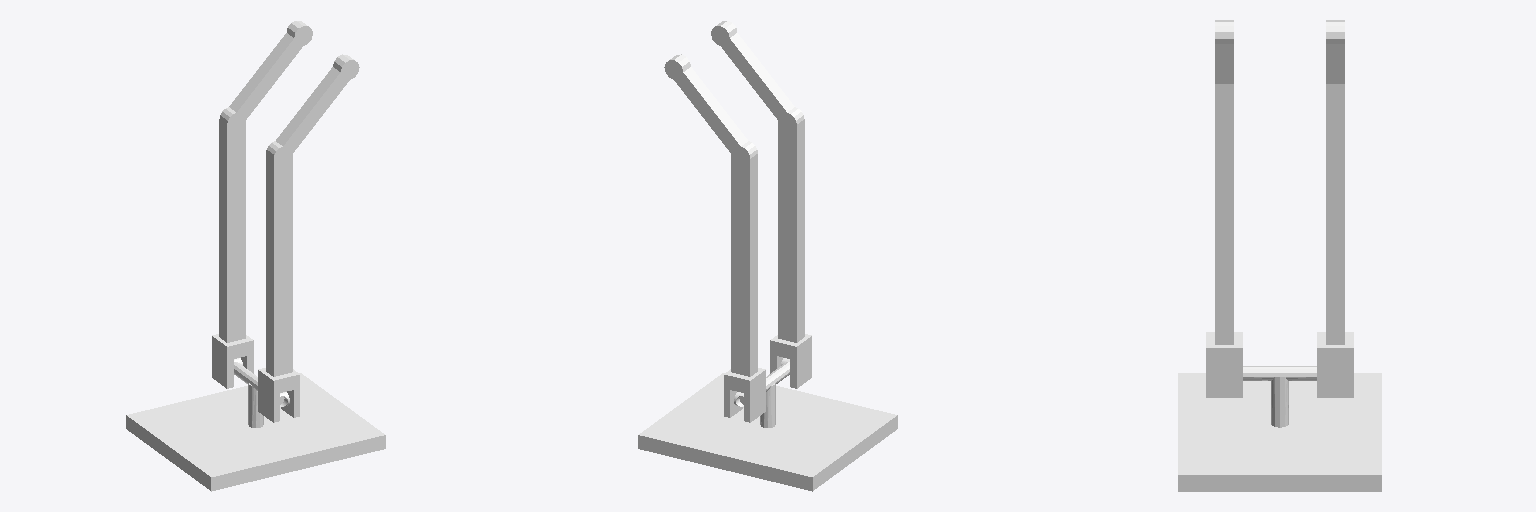
The robot description file, URDF, robot "leg-2.SLDASM":
<?xml version="1.0" encoding="utf-8"?>
<!-- This URDF was automatically created by SolidWorks to URDF Exporter! Originally created by [author] ([email redacted]) 
     Commit Version: 1.6.0-1-g15f4949  Build Version: 1.6.7594.29634
     For more information, please see http://wiki.ros.org/sw_urdf_exporter -->
<robot
  name="leg-2.SLDASM">
  <link
    name="base_link">
    <inertial>
      <origin
        xyz="-1.94367477668322E-09 -3.25260651745651E-19 0.00597914493703113"
        rpy="0 0 0" />
      <mass
        value="0.151105562126574" />
      <inertia
        ixx="0.000153745588525564"
        ixy="9.89292395121666E-13"
        ixz="8.03746377793823E-12"
        iyy="0.000211179851049802"
        iyz="6.88420161230356E-21"
        izz="0.000353457708906934" />
    </inertial>
    <visual>
      <origin
        xyz="0 0 0"
        rpy="0 0 0" />
      <geometry>
        <mesh
          filename="package://leg-2.SLDASM/meshes/base_link.STL" />
      </geometry>
      <material
        name="">
        <color
          rgba="1 1 1 1" />
      </material>
    </visual>
    <collision>
      <origin
        xyz="0 0 0"
        rpy="0 0 0" />
      <geometry>
        <mesh
          filename="package://leg-2.SLDASM/meshes/base_link.STL" />
      </geometry>
    </collision>
  </link>
  <link
    name="L_L_0">
    <inertial>
      <origin
        xyz="-0.00500044896191324 -8.06705655748141E-08 -3.69128839085298E-07"
        rpy="0 0 0" />
      <mass
        value="0.00113477680193223" />
      <inertia
        ixx="5.98102023672472E-08"
        ixy="7.48121524079023E-13"
        ixz="-1.74645194428151E-12"
        iyy="1.5012955223306E-08"
        iyz="-8.18948020861872E-13"
        izz="5.81471519056451E-08" />
    </inertial>
    <visual>
      <origin
        xyz="0 0 0"
        rpy="0 0 0" />
      <geometry>
        <mesh
          filename="package://leg-2.SLDASM/meshes/L_L_0.STL" />
      </geometry>
      <material
        name="">
        <color
          rgba="1 1 1 1" />
      </material>
    </visual>
    <collision>
      <origin
        xyz="0 0 0"
        rpy="0 0 0" />
      <geometry>
        <mesh
          filename="package://leg-2.SLDASM/meshes/L_L_0.STL" />
      </geometry>
    </collision>
  </link>
  <joint
    name="J_L_0"
    type="continuous">
    <origin
      xyz="0 -0.025 0.04"
      rpy="0 0 1.5707963267949" />
    <parent
      link="base_link" />
    <child
      link="L_L_0" />
    <axis
      xyz="1 0 0" />
  </joint>
  <link
    name="L_L_1">
    <inertial>
      <origin
        xyz="8.32667268468867E-17 0.0075 6.93889390390723E-18"
        rpy="0 0 0" />
      <mass
        value="0.0065577877466692" />
      <inertia
        ixx="7.89178936486288E-07"
        ixy="1.1548475327006E-22"
        ixz="-1.03685483572443E-22"
        iyy="5.84248069402876E-07"
        iyz="1.6173956089759E-23"
        izz="8.49454659055799E-07" />
    </inertial>
    <visual>
      <origin
        xyz="0 0 0"
        rpy="0 0 0" />
      <geometry>
        <mesh
          filename="package://leg-2.SLDASM/meshes/L_L_1.STL" />
      </geometry>
      <material
        name="">
        <color
          rgba="1 1 1 1" />
      </material>
    </visual>
    <collision>
      <origin
        xyz="0 0 0"
        rpy="0 0 0" />
      <geometry>
        <mesh
          filename="package://leg-2.SLDASM/meshes/L_L_1.STL" />
      </geometry>
    </collision>
  </link>
  <joint
    name="J_L_1"
    type="continuous">
    <origin
      xyz="-0.00499999999999999 0 0"
      rpy="1.5707963267949 0 1.5707963267949" />
    <parent
      link="L_L_0" />
    <child
      link="L_L_1" />
    <axis
      xyz="1 0 0" />
  </joint>
  <link
    name="L_L_2">
    <inertial>
      <origin
        xyz="0.00721633733279378 0 0.113448756124308"
        rpy="0 0 0" />
      <mass
        value="0.0315458075480995" />
      <inertia
        ixx="0.000124833358961872"
        ixy="2.32959880216353E-22"
        ixz="-2.03566826188516E-05"
        iyy="0.000131881534140279"
        iyz="2.12090306981304E-21"
        izz="7.57060069534775E-06" />
    </inertial>
    <visual>
      <origin
        xyz="0 0 0"
        rpy="0 0 0" />
      <geometry>
        <mesh
          filename="package://leg-2.SLDASM/meshes/L_L_2.STL" />
      </geometry>
      <material
        name="">
        <color
          rgba="1 1 1 1" />
      </material>
    </visual>
    <collision>
      <origin
        xyz="0 0 0"
        rpy="0 0 0" />
      <geometry>
        <mesh
          filename="package://leg-2.SLDASM/meshes/L_L_2.STL" />
      </geometry>
    </collision>
  </link>
  <joint
    name="J_L_2"
    type="continuous">
    <origin
      xyz="0 0.01 0"
      rpy="1.5707963267949 0 3.14159265358979" />
    <parent
      link="L_L_1" />
    <child
      link="L_L_2" />
    <axis
      xyz="0 0 1" />
  </joint>
  <link
    name="L_R_0">
    <inertial>
      <origin
        xyz="0.00499955103808669 -8.06705655748141E-08 -3.69128839091369E-07"
        rpy="0 0 0" />
      <mass
        value="0.00113477680193223" />
      <inertia
        ixx="5.98102023672473E-08"
        ixy="7.48121523747181E-13"
        ixz="-1.74645194428453E-12"
        iyy="1.50129552233061E-08"
        iyz="-8.18948020890187E-13"
        izz="5.81471519056453E-08" />
    </inertial>
    <visual>
      <origin
        xyz="0 0 0"
        rpy="0 0 0" />
      <geometry>
        <mesh
          filename="package://leg-2.SLDASM/meshes/L_R_0.STL" />
      </geometry>
      <material
        name="">
        <color
          rgba="1 1 1 1" />
      </material>
    </visual>
    <collision>
      <origin
        xyz="0 0 0"
        rpy="0 0 0" />
      <geometry>
        <mesh
          filename="package://leg-2.SLDASM/meshes/L_R_0.STL" />
      </geometry>
    </collision>
  </link>
  <joint
    name="J_R_0"
    type="continuous">
    <origin
      xyz="0 0.025 0.04"
      rpy="0 0 1.5707963267949" />
    <parent
      link="base_link" />
    <child
      link="L_R_0" />
    <axis
      xyz="1 0 0" />
  </joint>
  <link
    name="L_R_1">
    <inertial>
      <origin
        xyz="6.93889390390723E-17 0 0.0075"
        rpy="0 0 0" />
      <mass
        value="0.0065577877466692" />
      <inertia
        ixx="7.89178936486287E-07"
        ixy="6.79269937328055E-23"
        ixz="-2.65245803172785E-22"
        iyy="8.49454659055798E-07"
        iyz="5.97232773082764E-23"
        izz="5.84248069402875E-07" />
    </inertial>
    <visual>
      <origin
        xyz="0 0 0"
        rpy="0 0 0" />
      <geometry>
        <mesh
          filename="package://leg-2.SLDASM/meshes/L_R_1.STL" />
      </geometry>
      <material
        name="">
        <color
          rgba="1 1 1 1" />
      </material>
    </visual>
    <collision>
      <origin
        xyz="0 0 0"
        rpy="0 0 0" />
      <geometry>
        <mesh
          filename="package://leg-2.SLDASM/meshes/L_R_1.STL" />
      </geometry>
    </collision>
  </link>
  <joint
    name="J_R_1"
    type="continuous">
    <origin
      xyz="0.00499999999999993 0 0"
      rpy="0 0 -1.5707963267949" />
    <parent
      link="L_R_0" />
    <child
      link="L_R_1" />
    <axis
      xyz="-1 0 0" />
  </joint>
  <link
    name="L_R_2">
    <inertial>
      <origin
        xyz="-3.46944695195361E-18 0.113448756124308 0.00721633733279391"
        rpy="0 0 0" />
      <mass
        value="0.0315458075480995" />
      <inertia
        ixx="0.000131881534140279"
        ixy="7.61586844840369E-22"
        ixz="1.68812605127951E-22"
        iyy="7.57060069534776E-06"
        iyz="-2.03566826188516E-05"
        izz="0.000124833358961872" />
    </inertial>
    <visual>
      <origin
        xyz="0 0 0"
        rpy="0 0 0" />
      <geometry>
        <mesh
          filename="package://leg-2.SLDASM/meshes/L_R_2.STL" />
      </geometry>
      <material
        name="">
        <color
          rgba="1 1 1 1" />
      </material>
    </visual>
    <collision>
      <origin
        xyz="0 0 0"
        rpy="0 0 0" />
      <geometry>
        <mesh
          filename="package://leg-2.SLDASM/meshes/L_R_2.STL" />
      </geometry>
    </collision>
  </link>
  <joint
    name="J_R_2"
    type="continuous">
    <origin
      xyz="0 0 0.01"
      rpy="1.5707963267949 0 1.5707963267949" />
    <parent
      link="L_R_1" />
    <child
      link="L_R_2" />
    <axis
      xyz="0 1 0" />
  </joint>
</robot>

--- Facts derived from the render (not from the file) ---
3 views of the same robot in one strip: view 1: azimuth 30°, elevation 25°; view 2: azimuth 150°, elevation 25°; view 3: azimuth 270°, elevation 25° (orthographic).
Model leg-2.SLDASM with 7 links and 6 joints (6 continuous), rooted at base_link, posed every joint at zero.
Visible links, largest first — view 1: base_link, L_R_2, L_L_2, L_L_1, L_R_1; view 2: base_link, L_L_2, L_R_2, L_R_1, L_L_1; view 3: base_link, L_L_2, L_R_2, L_L_1, L_R_1.
Boxes of the visible links, bbox=[...] form: base_link: bbox=[126, 362, 385, 491]; L_R_2: bbox=[219, 21, 312, 342]; L_L_2: bbox=[266, 54, 359, 376]; L_L_1: bbox=[258, 368, 299, 422]; L_R_1: bbox=[212, 334, 253, 388]; base_link: bbox=[638, 362, 897, 491]; L_L_2: bbox=[711, 21, 804, 342]; L_R_2: bbox=[664, 54, 757, 376]; L_R_1: bbox=[724, 368, 765, 422]; L_L_1: bbox=[770, 334, 811, 388]; base_link: bbox=[1178, 366, 1381, 491]; L_L_2: bbox=[1215, 20, 1233, 344]; L_R_2: bbox=[1326, 20, 1344, 344]; L_L_1: bbox=[1206, 332, 1242, 397]; L_R_1: bbox=[1317, 332, 1353, 397].
Bounding box of the posed robot: 0.13 × 0.11 × 0.2726 m (x, y, z).
Meshes: 7 distinct files referenced, 7 mesh visuals loaded (7 binary STL).